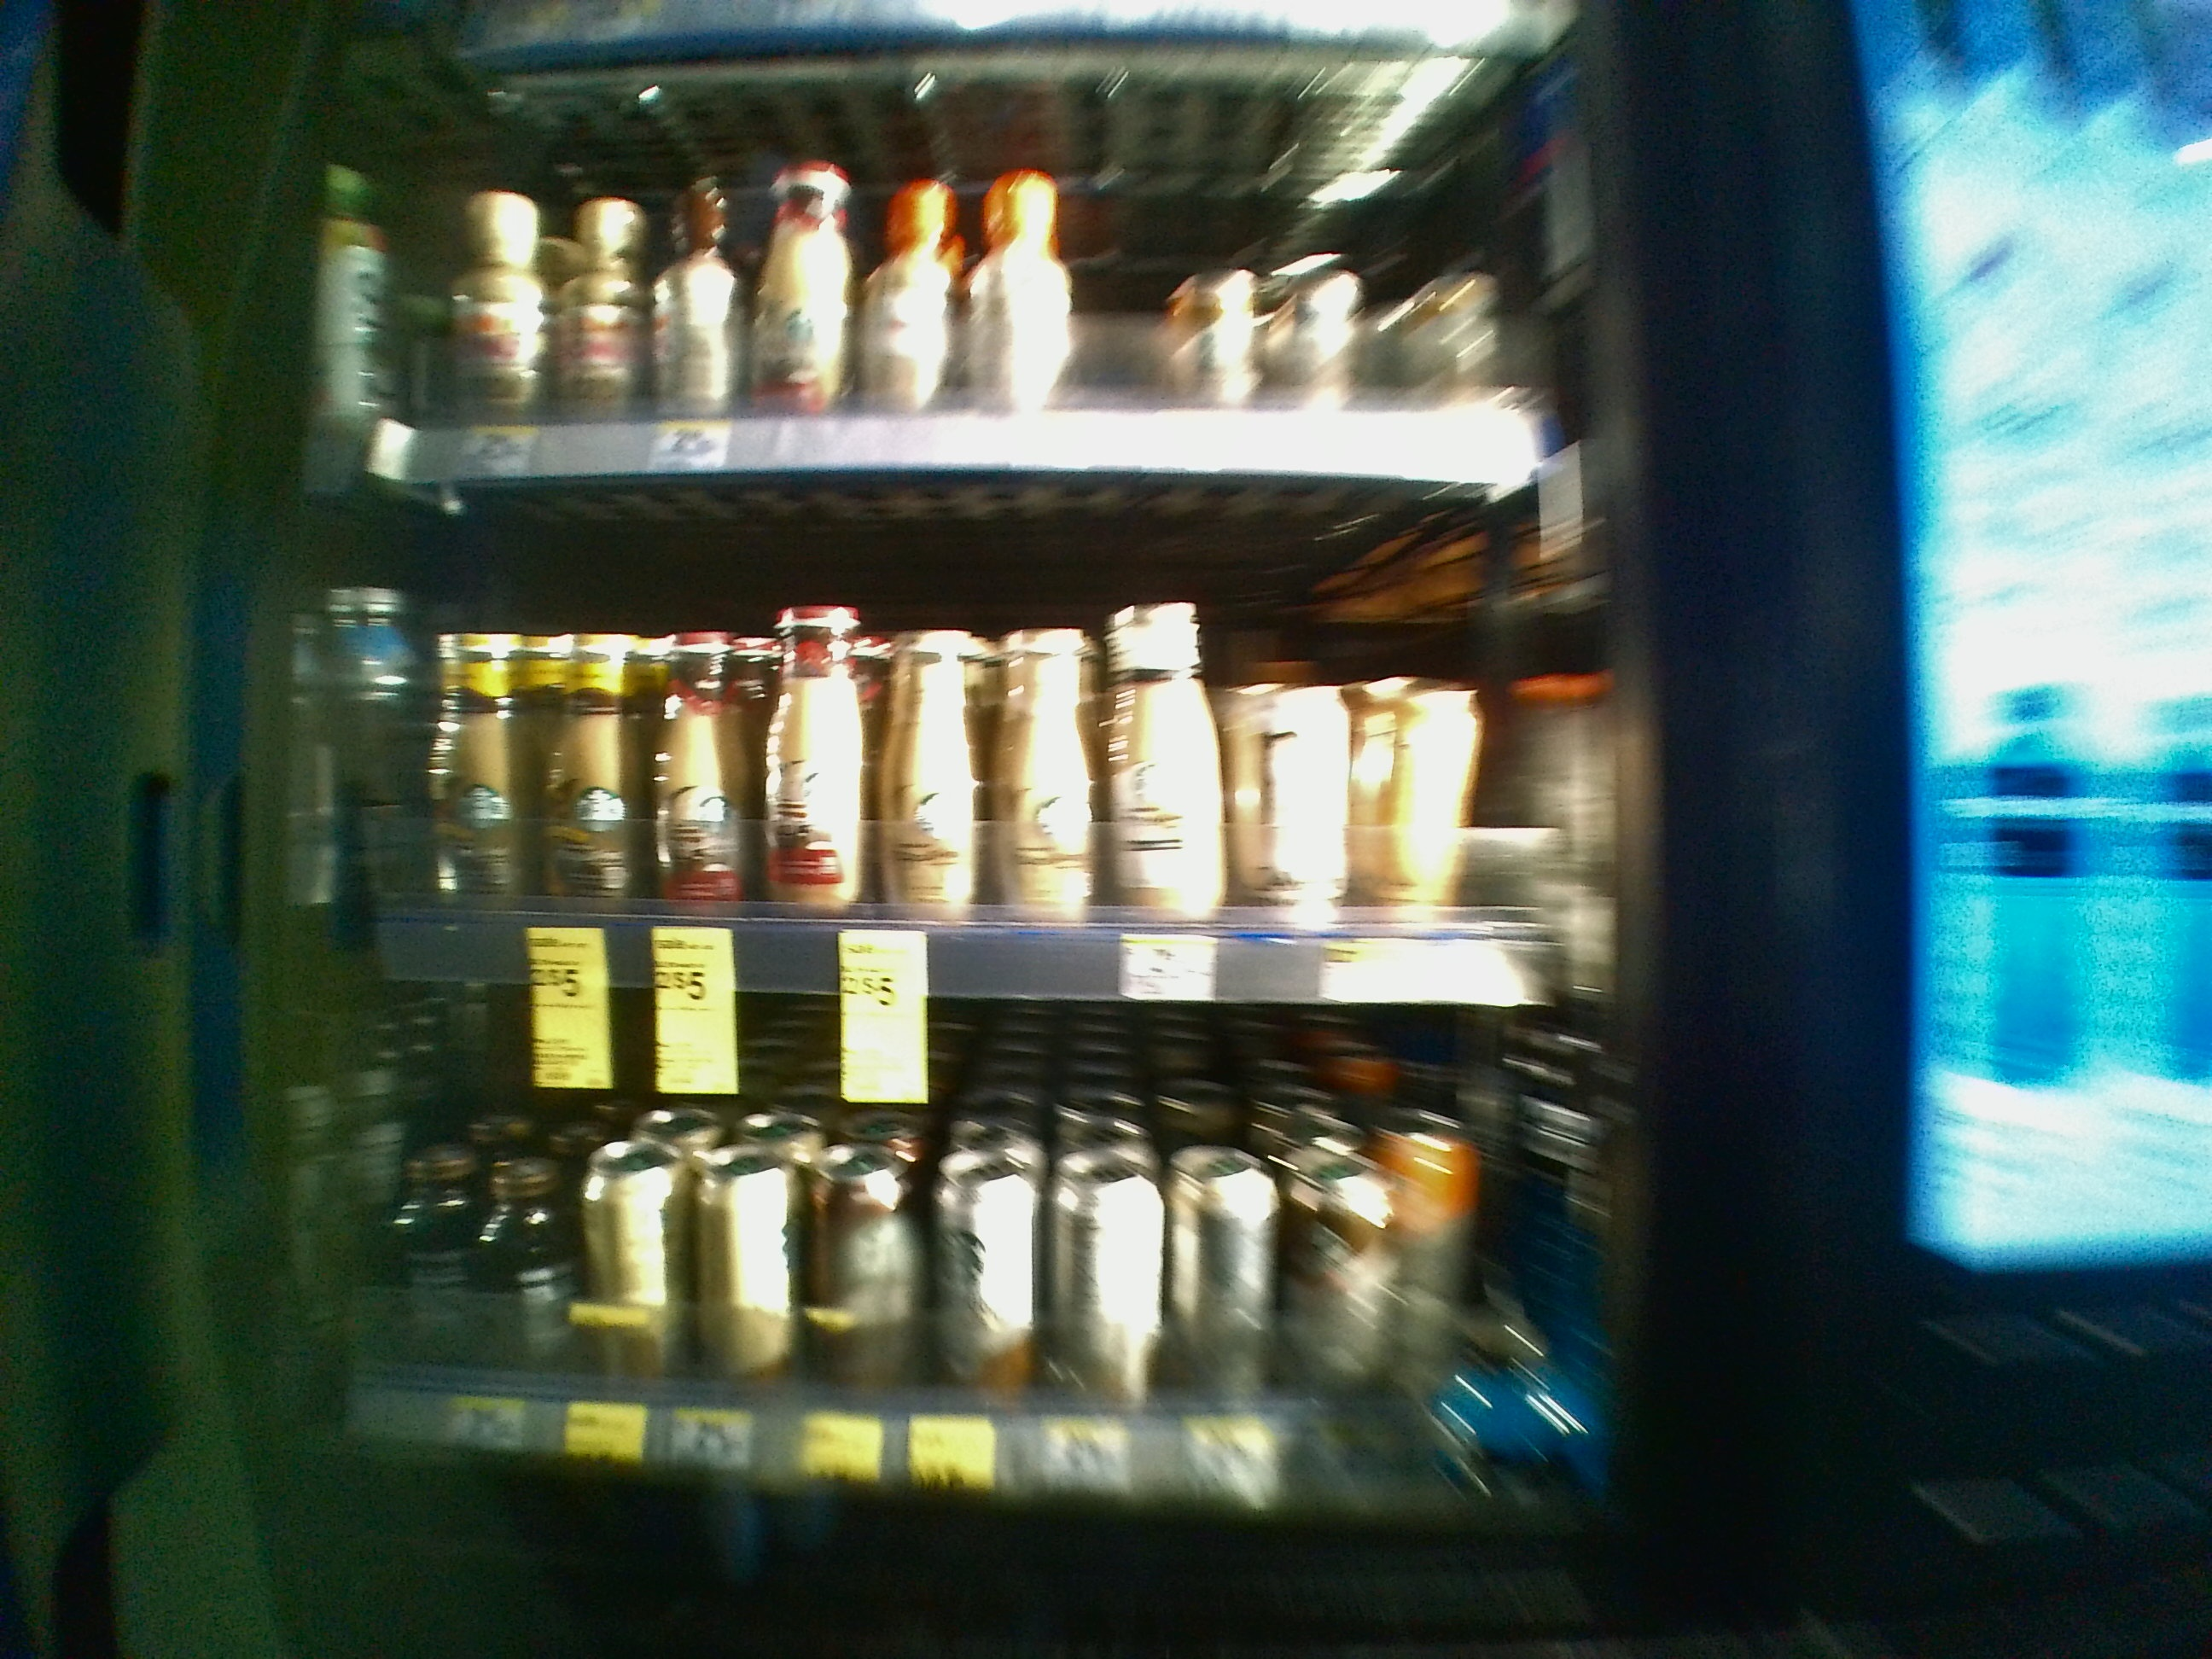shelf: (272, 986, 1634, 1521), (268, 481, 1629, 993)
